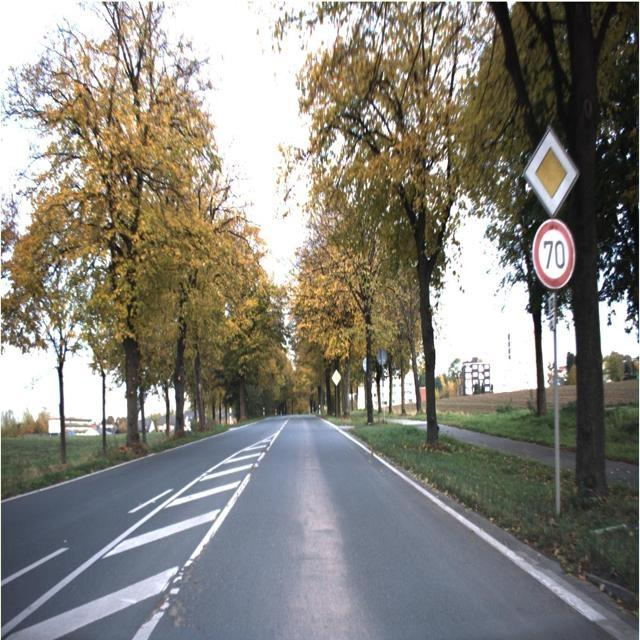forb_speed_over_70: (533, 219, 575, 289)
